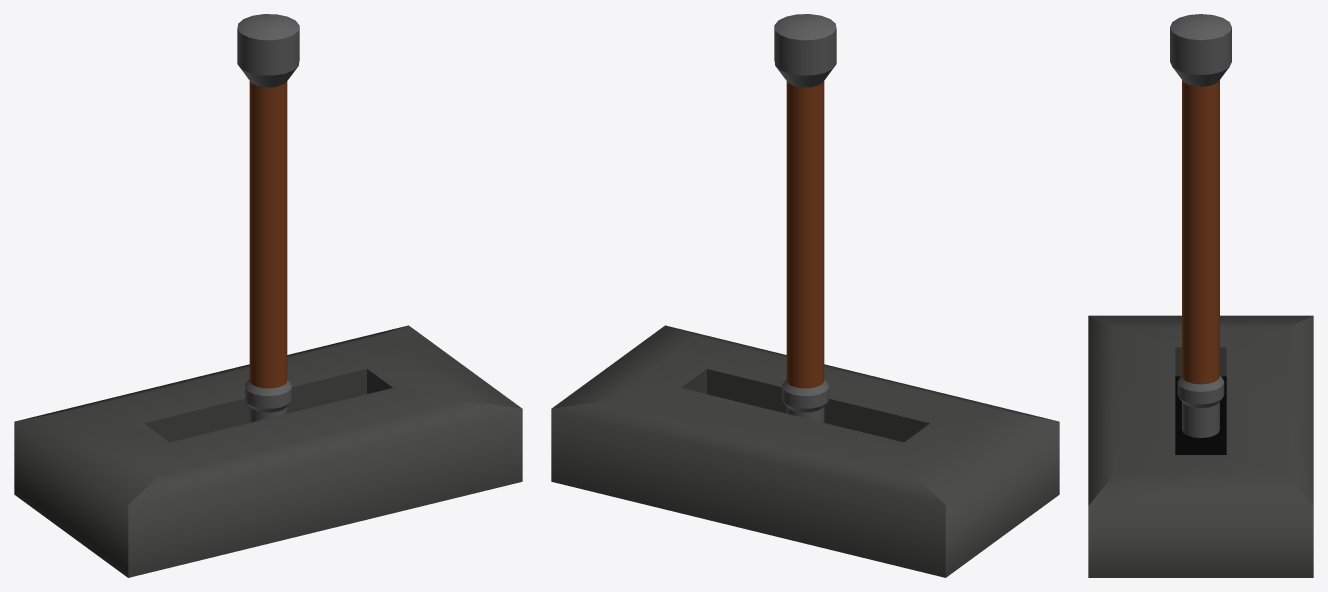
File: Lever.fbx
3 renders of one model, left to right at view 1: azimuth 30°, elevation 25°; view 2: azimuth 150°, elevation 25°; view 3: azimuth 270°, elevation 25°, orthographic.
Visible parts, largest first — view 1: Block, Lever; view 2: Block, Lever; view 3: Block, Lever.
Part boxes in pixels (box(x1,y1,x2,y2)): Block: box(14, 325, 522, 577); Lever: box(237, 14, 299, 422); Block: box(551, 325, 1059, 577); Lever: box(774, 14, 836, 422); Block: box(1088, 315, 1313, 577); Lever: box(1170, 14, 1231, 437).
Size of the model in its own units: 100 by 113 by 50.
